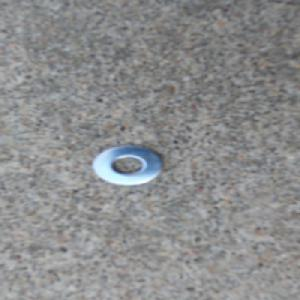Washer: (87, 141, 168, 189)
